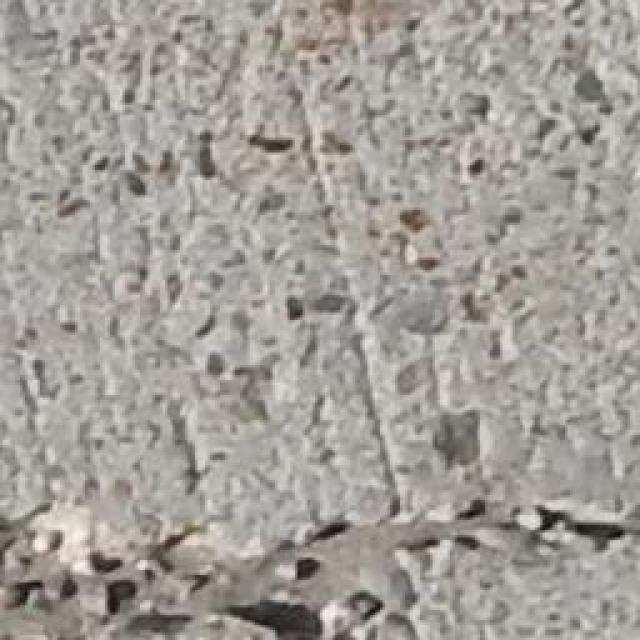concrete-crack: (0, 487, 640, 640)
